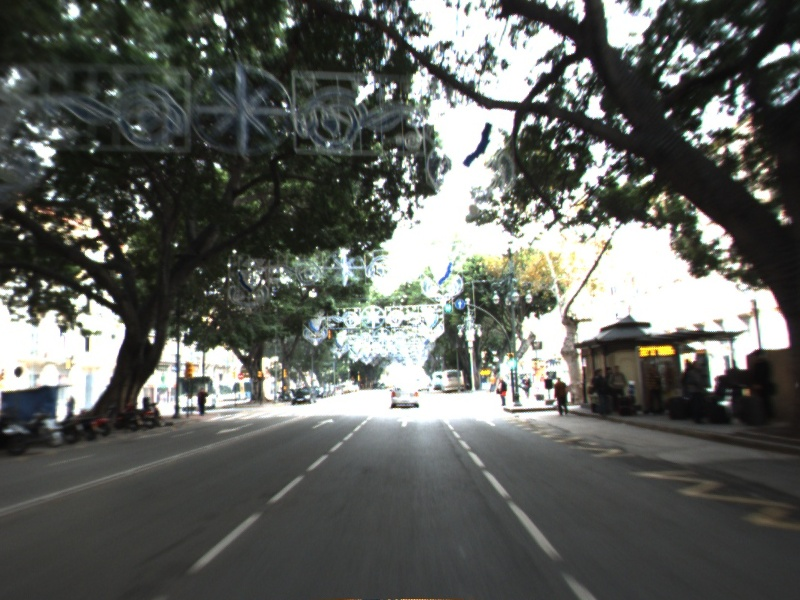STRAIGHT: (310, 416, 336, 431)
